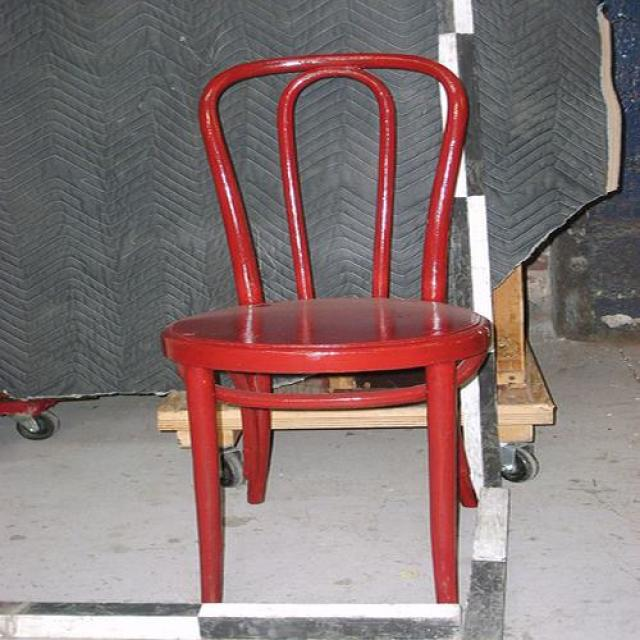chair: (160, 52, 495, 608)
